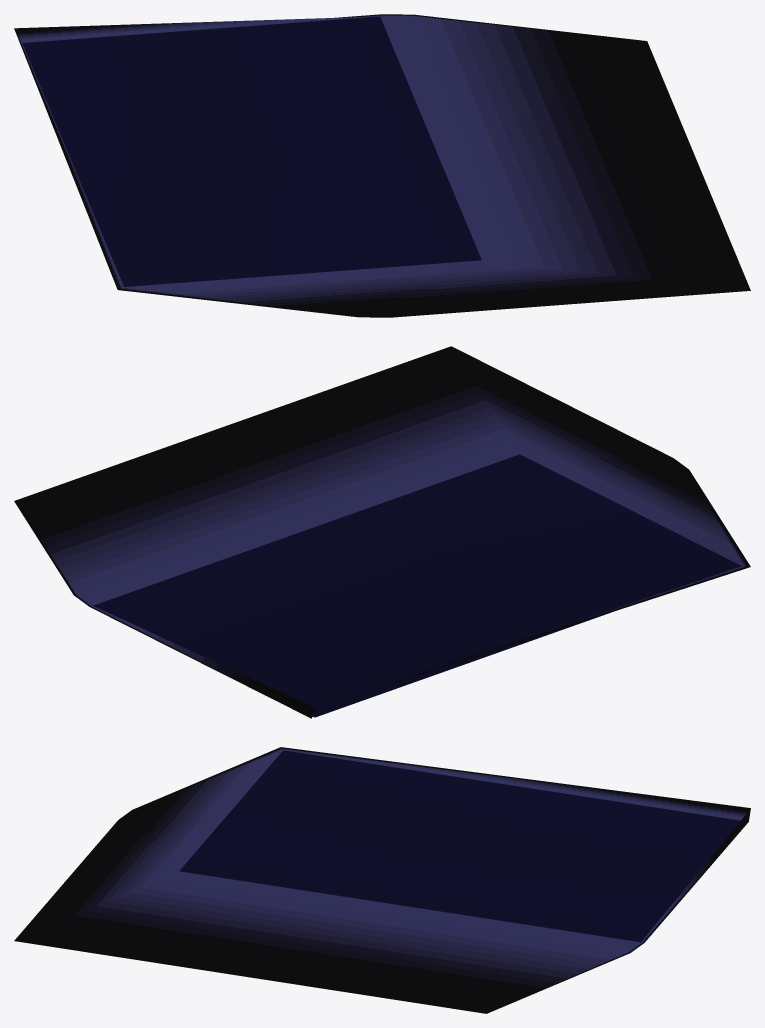
The picture shows the model from 3 angles, top to bottom: view 1: azimuth 30°, elevation 25°; view 2: azimuth 150°, elevation 25°; view 3: azimuth 270°, elevation 25°; orthographic projection. The views are drawn at different scales.
Parts seen in each view (by area): view 1: Joint_0_Object_0; view 2: Joint_0_Object_0; view 3: Joint_0_Object_0.
Part boxes in pixels (x1,y1,x2,y2): Joint_0_Object_0: (14,14,750,317); Joint_0_Object_0: (14,346,750,718); Joint_0_Object_0: (14,747,750,1013).
Size of the model in its own units: 956 by 18.75 by 1116.
1 material, 1 textured.
